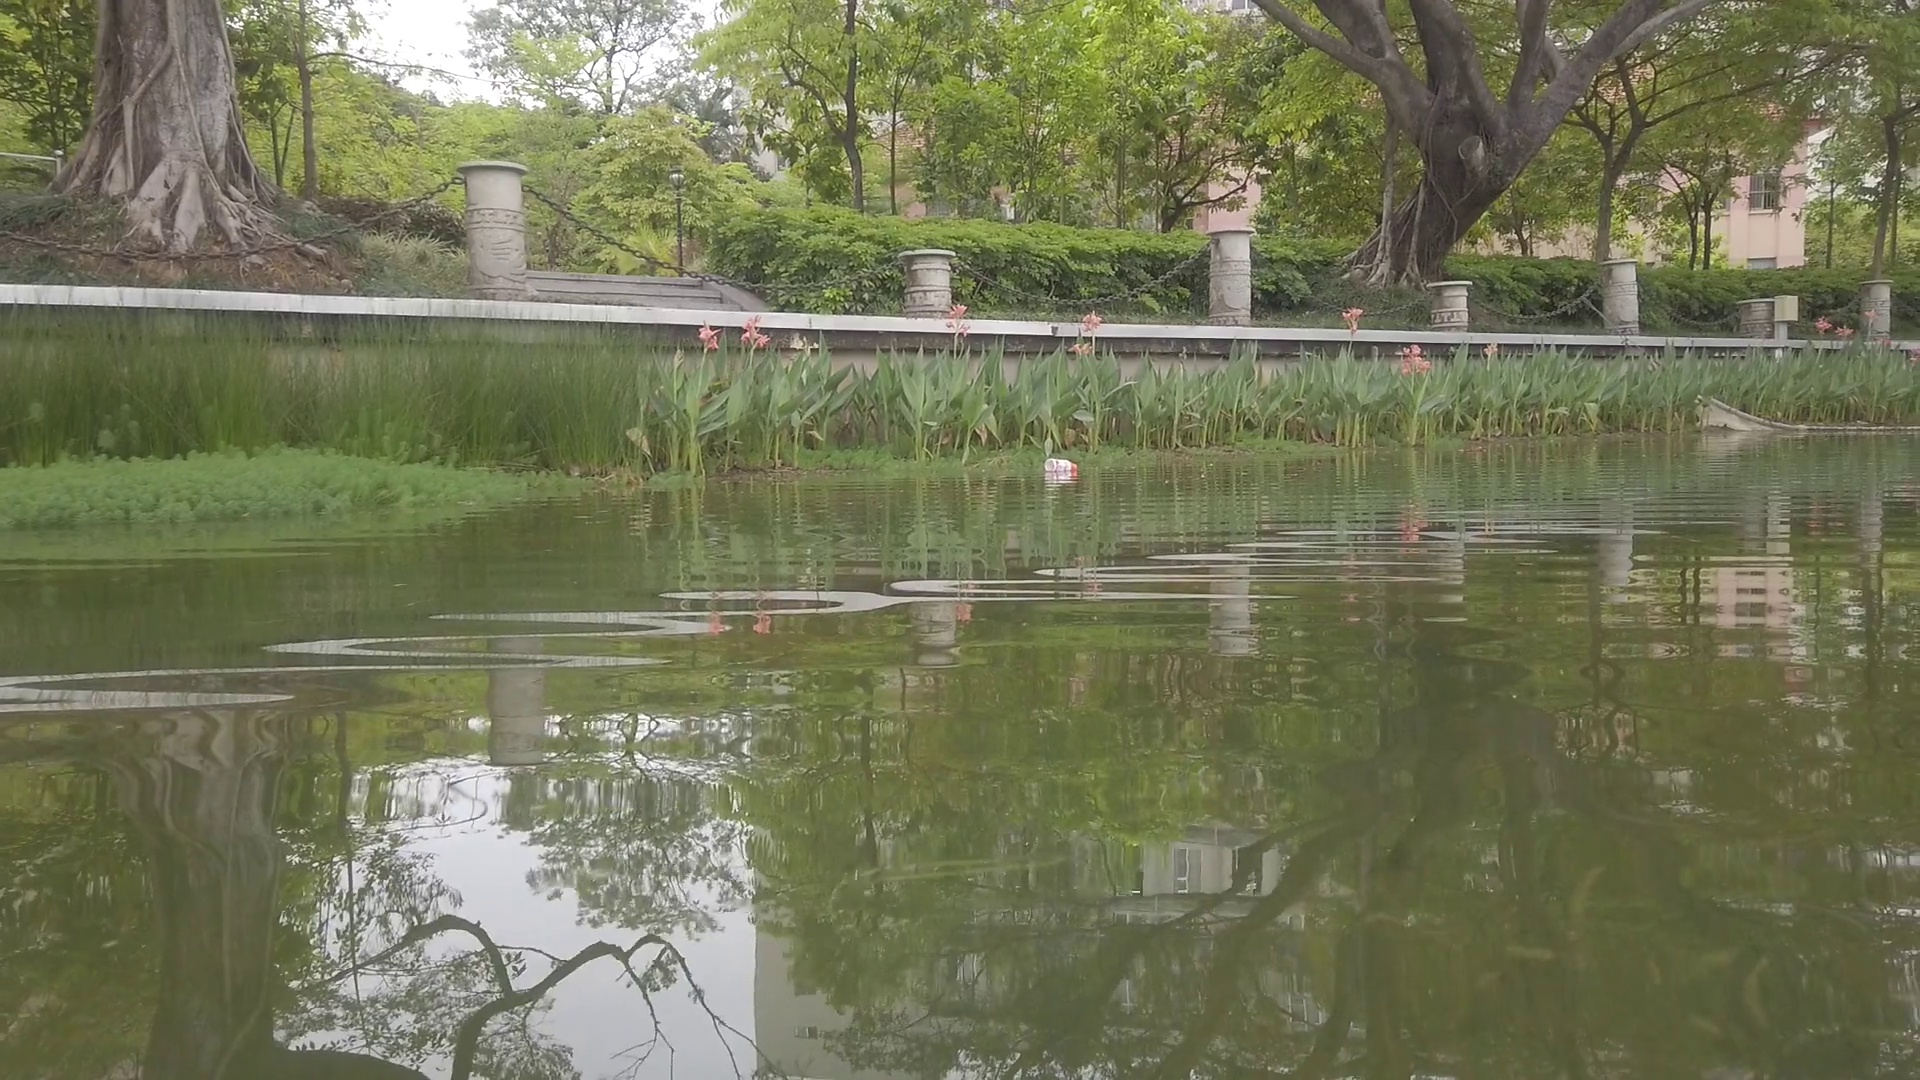bottle: (1044, 458, 1079, 472)
